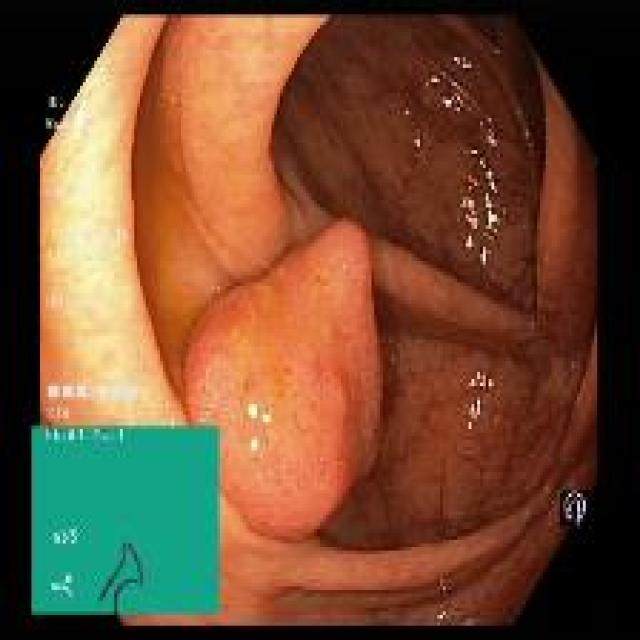Polyps: (184, 221, 382, 540)
